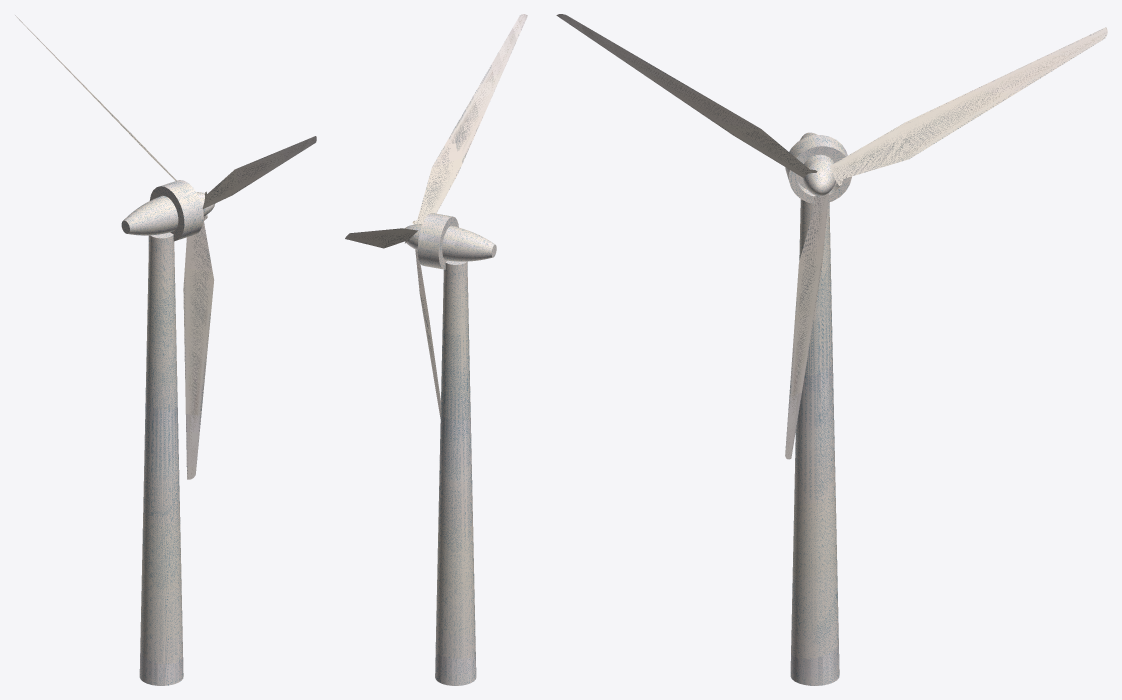
Rendered from f5aabf00-b3ef-4884-87d6-a4fd526b2dfd.obj.
3 views of the same model, side by side, from view 1: azimuth 30°, elevation 25°; view 2: azimuth 150°, elevation 25°; view 3: azimuth 270°, elevation 25° (orthographic). The views are drawn at different scales.
Parts seen in each view (by area): view 1: Mesh2 G_1452627491196_Wind_Turbine1 Model, Mesh5 G_1452627491196_Wind_Turbine1 Model, Mesh1 G_1452627491196_Wind_Turbine1 Model, Mesh4 G_1452627491196_Wind_Turbine1 Model; view 2: Mesh2 G_1452627491196_Wind_Turbine1 Model, Mesh4 G_1452627491196_Wind_Turbine1 Model, Mesh1 G_1452627491196_Wind_Turbine1 Model, Mesh3 G_1452627491196_Wind_Turbine1 Model, Mesh5 G_1452627491196_Wind_Turbine1 Model; view 3: Mesh2 G_1452627491196_Wind_Turbine1 Model, Mesh3 G_1452627491196_Wind_Turbine1 Model, Mesh5 G_1452627491196_Wind_Turbine1 Model, Mesh4 G_1452627491196_Wind_Turbine1 Model, Mesh1 G_1452627491196_Wind_Turbine1 Model.
Part boxes in pixels (bbox=[...]): Mesh2 G_1452627491196_Wind_Turbine1 Model: bbox=[139, 232, 183, 685]; Mesh5 G_1452627491196_Wind_Turbine1 Model: bbox=[183, 215, 214, 479]; Mesh1 G_1452627491196_Wind_Turbine1 Model: bbox=[121, 180, 214, 241]; Mesh4 G_1452627491196_Wind_Turbine1 Model: bbox=[202, 136, 316, 208]; Mesh2 G_1452627491196_Wind_Turbine1 Model: bbox=[435, 260, 476, 685]; Mesh4 G_1452627491196_Wind_Turbine1 Model: bbox=[412, 14, 527, 224]; Mesh1 G_1452627491196_Wind_Turbine1 Model: bbox=[404, 213, 496, 269]; Mesh3 G_1452627491196_Wind_Turbine1 Model: bbox=[345, 228, 417, 248]; Mesh5 G_1452627491196_Wind_Turbine1 Model: bbox=[415, 249, 440, 418]; Mesh2 G_1452627491196_Wind_Turbine1 Model: bbox=[790, 199, 839, 685]; Mesh3 G_1452627491196_Wind_Turbine1 Model: bbox=[829, 27, 1107, 185]; Mesh5 G_1452627491196_Wind_Turbine1 Model: bbox=[785, 193, 828, 459]; Mesh4 G_1452627491196_Wind_Turbine1 Model: bbox=[556, 14, 817, 177]; Mesh1 G_1452627491196_Wind_Turbine1 Model: bbox=[785, 132, 851, 203].
Bounding box in the file's own units: 375 × 2338 × 1707.
Materials: 3 (2 with a texture image).
